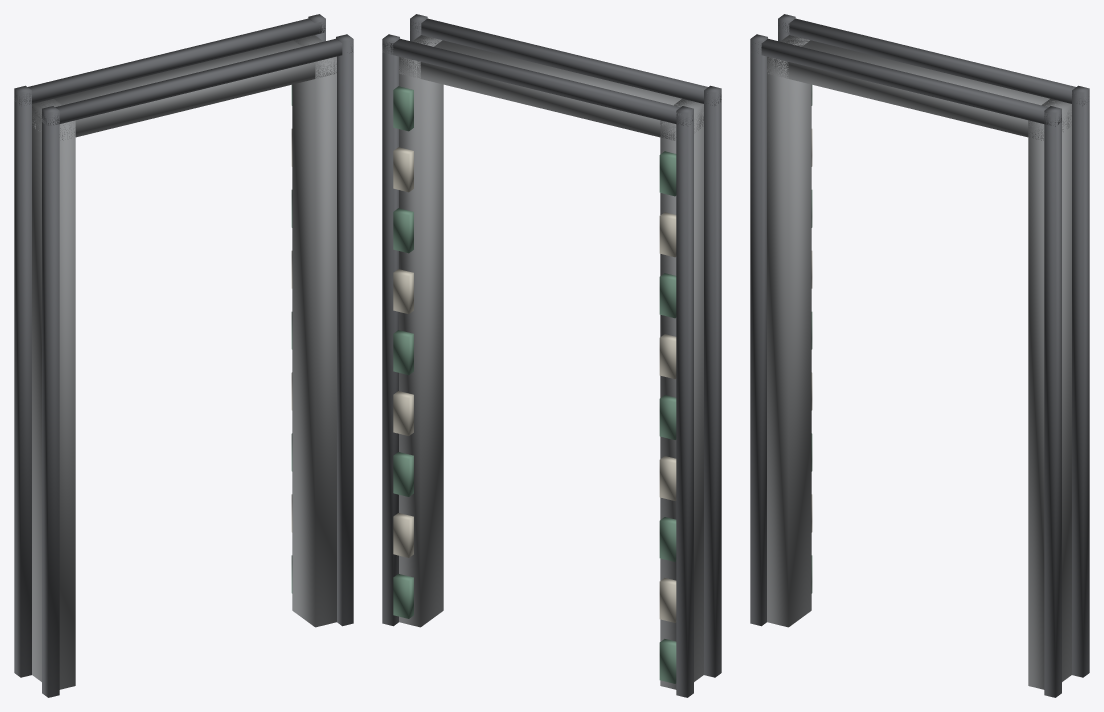
File: doorway_tile_return_w96_h210_d16.glb
The picture shows the model from 3 angles, left to right: view 1: azimuth 30°, elevation 25°; view 2: azimuth 150°, elevation 25°; view 3: azimuth 330°, elevation 25°; orthographic projection.
Parts seen in each view (by area): view 1: world; view 2: world; view 3: world.
Boxes of the visible parts, <box> form: world: <box>14,14,353,697</box>; world: <box>382,14,721,697</box>; world: <box>750,14,1089,697</box>.
Bounding box in the file's own units: 1.22 × 2.24 × 0.2407.
